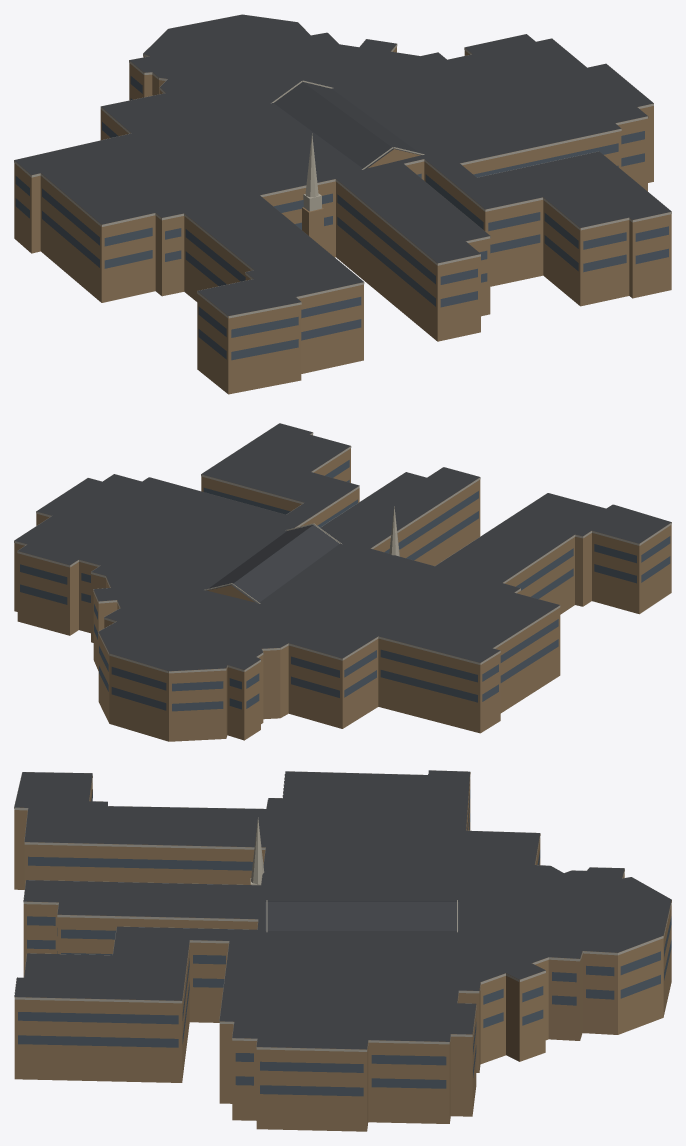
The model's file is st-james-umc.glb.
3 views of the same model, one above another, from view 1: azimuth 30°, elevation 25°; view 2: azimuth 150°, elevation 25°; view 3: azimuth 270°, elevation 25° (orthographic). The views are drawn at different scales.
Parts seen in each view (by area): view 1: st_james_umc; view 2: st_james_umc; view 3: st_james_umc.
Boxes of the visible parts, bbox=[...] form: st_james_umc: bbox=[14, 14, 671, 394]; st_james_umc: bbox=[14, 423, 671, 741]; st_james_umc: bbox=[14, 770, 671, 1131].
Bounding box in the file's own units: 115 × 26.88 × 114.
